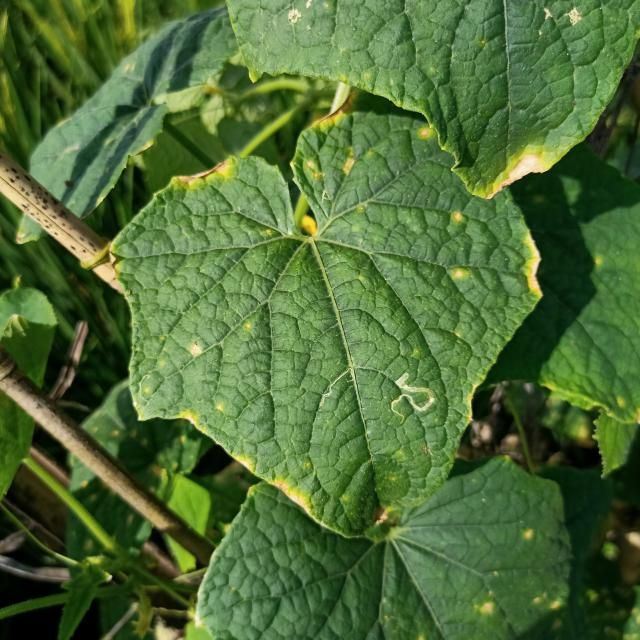disease_cucumber: (306, 109, 356, 184), (176, 396, 231, 430), (450, 266, 470, 285), (188, 342, 204, 357), (453, 210, 465, 225)
